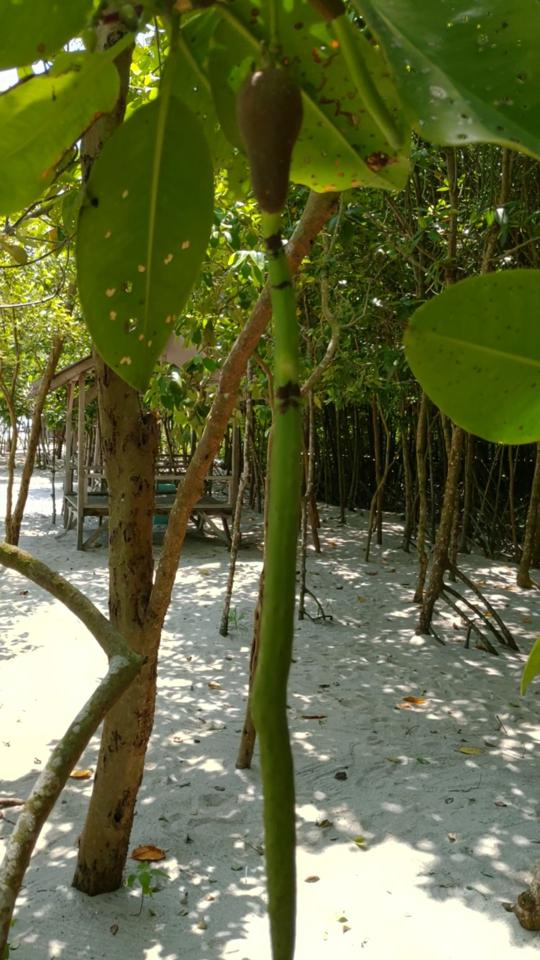mentah: (212, 29, 331, 958)
